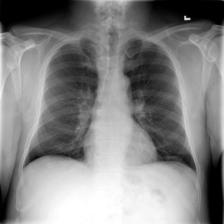normal: (17, 29, 205, 187)
